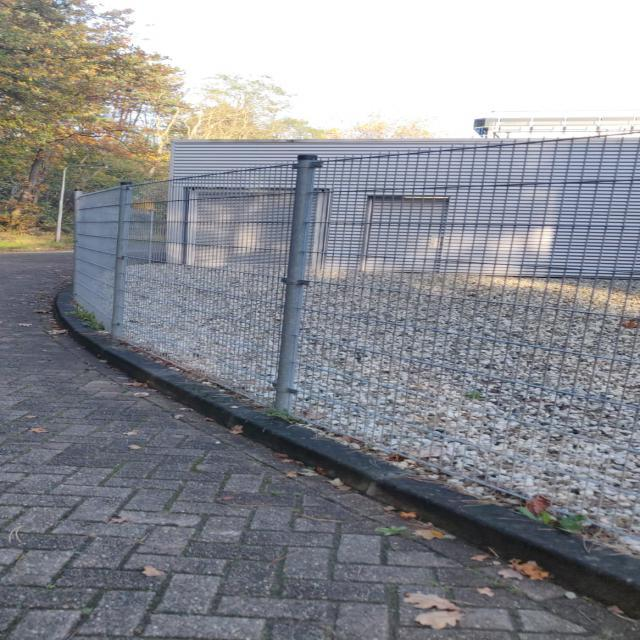fence line: (64, 173, 639, 533)
